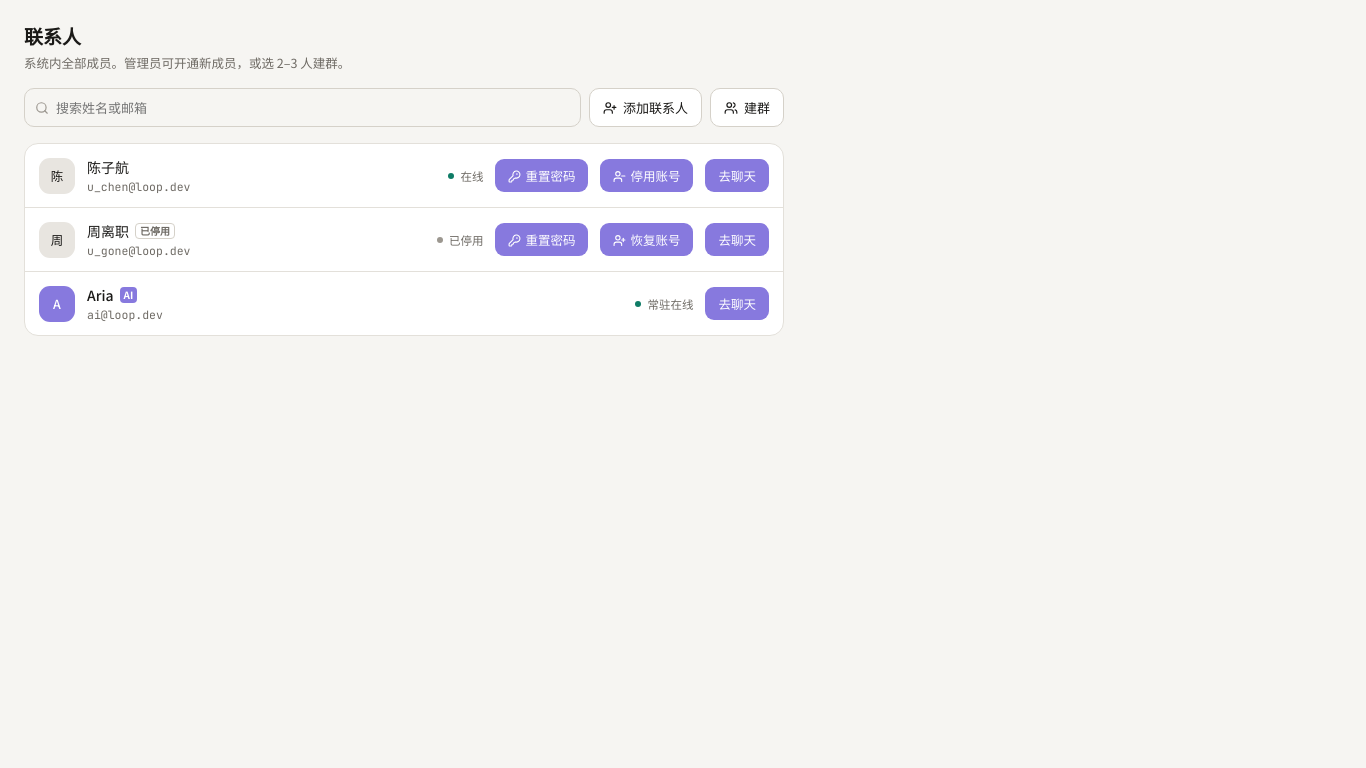
Test: 停用弹窗 › 接口报错时显示服务端的原因，且可以重试
Click the button titled "停用 陈子航 的账号" at (647, 176), box [600,159,694,192]
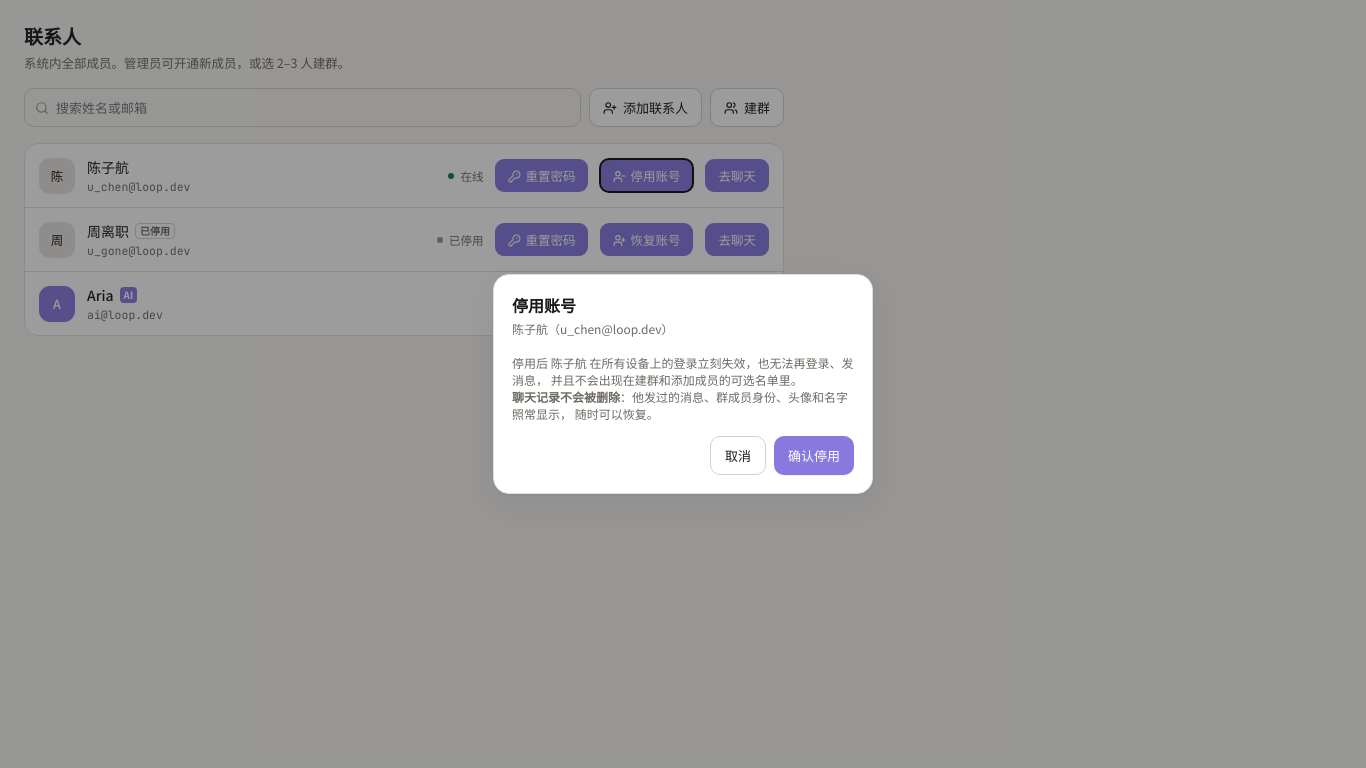
Click the button "确认停用" at (814, 456), box [774,436,854,475]
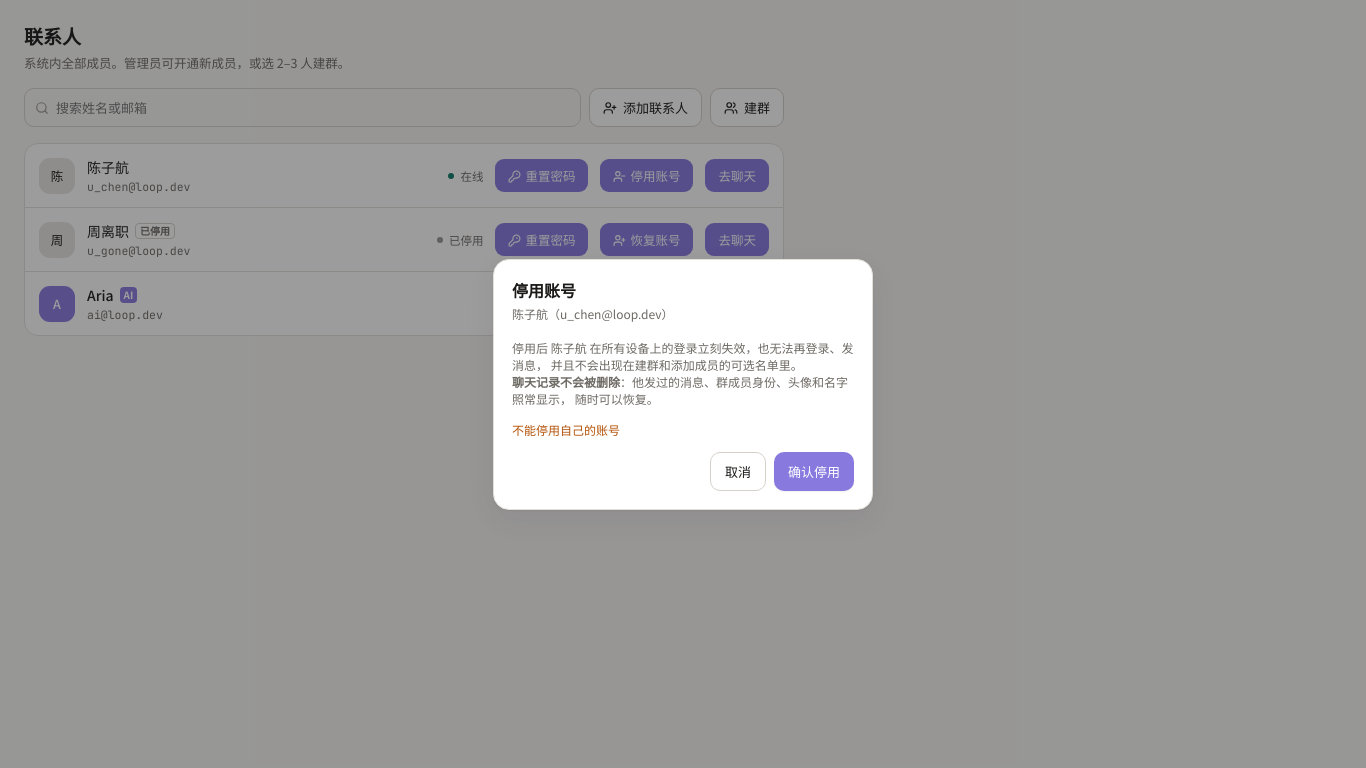
Result: the button "确认停用" is enabled at [774,452,854,490]
Result: the text "不能停用自己的账号" is shown at [512,420,620,438]
